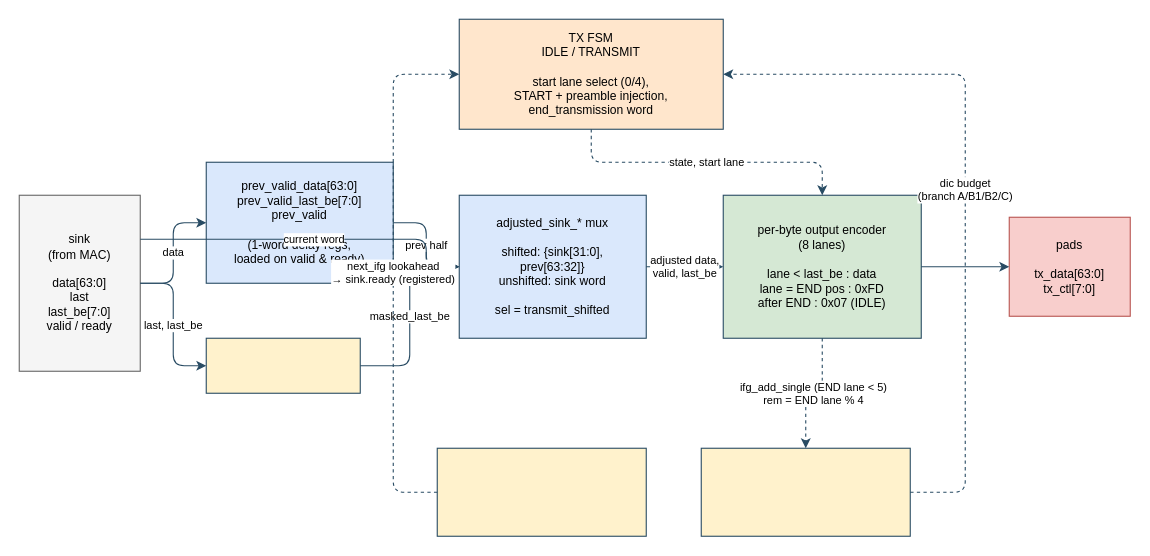
Some shapes in this 1150 by 556 pixel diagram are drawn without their labels. Here are the shapes that lost their labels. From the top down, the box of each, then its label:
(205, 337, 360, 393): masked_last_be = last ? last_be : 0
(436, 447, 646, 536): IFG range state (2b) 0:<4B 1:<8B 2:<12B 3:≥12B ifg_reset / +4B / +8B
(700, 447, 910, 536): DIC state current_dic (2b, 0..3) last_packet_rem (len % 4)
